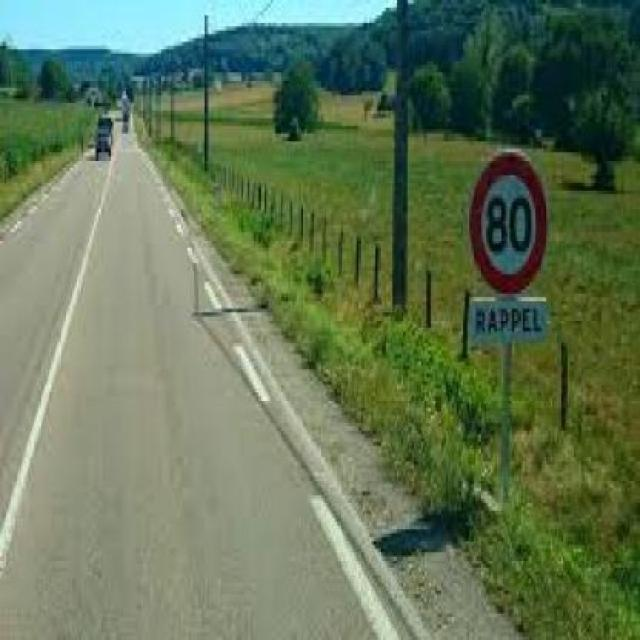forb_speed_over_80: (469, 148, 549, 301)
